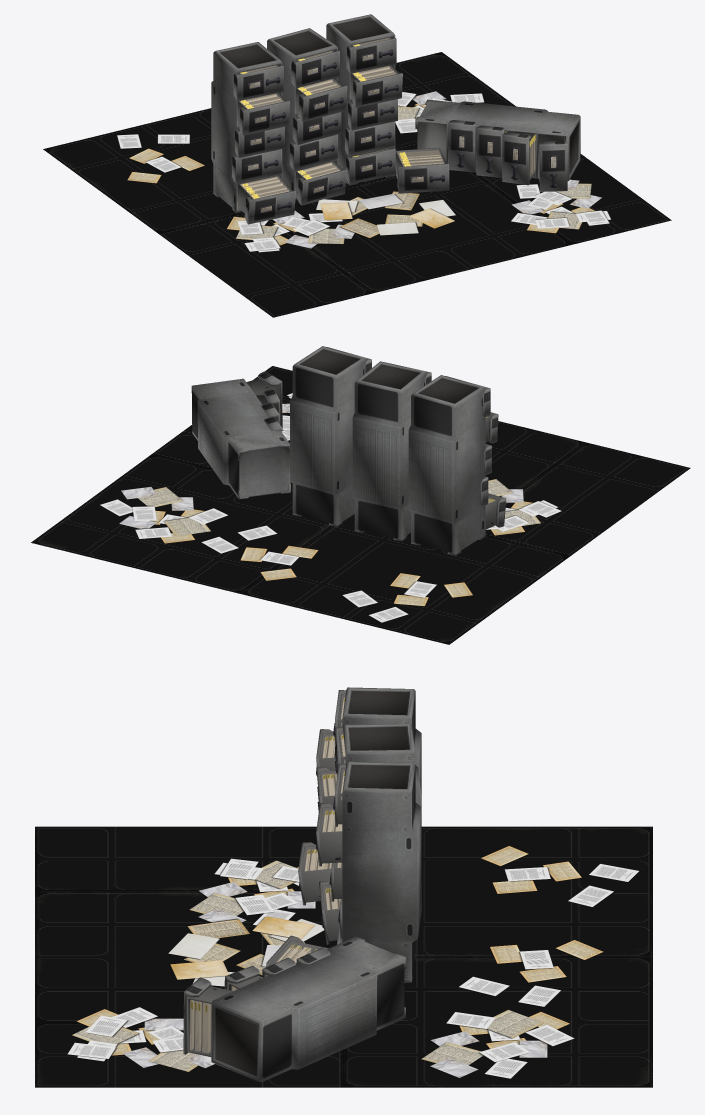
The model's file is filing_cabinets.glb.
3 renders of one model, top to bottom at view 1: azimuth 30°, elevation 25°; view 2: azimuth 150°, elevation 25°; view 3: azimuth 270°, elevation 25°, orthographic. The views are drawn at different scales.
Parts seen in each view (by area): view 1: Plane, bakeObject.065_low.005, bakeObject.065_low.002, Plane.003, Plane.001, Plane.005, bakeObject.065_low.003, bakeObject.065_low.004, bakeObject.008_low.005, bakeObject.008_low.002, Plane.006, bakeObject.005_low.004 (+18 smaller); view 2: Plane, bakeObject.065_low.002, bakeObject.065_low.004, bakeObject.065_low.003, bakeObject.065_low.005, Plane.002, Plane.004, Plane.006, Plane.005, bakeObject.009_low.005, bakeObject.008_low.002; view 3: Plane, bakeObject.065_low.005, bakeObject.065_low.004, Plane.002, Plane.001, Plane.003, Plane.005, Plane.006, Plane.004, bakeObject.065_low.002, bakeObject.065_low.003, bakeObject.009_low.005 (+6 smaller).
Part boxes in pixels (bbox=[...]): Plane: bbox=[43, 52, 671, 317]; bakeObject.065_low.005: bbox=[415, 99, 580, 180]; bakeObject.065_low.002: bbox=[211, 42, 282, 213]; Plane.003: bbox=[316, 191, 456, 238]; Plane.001: bbox=[511, 179, 611, 233]; Plane.005: bbox=[227, 210, 355, 252]; bakeObject.065_low.003: bbox=[267, 28, 337, 200]; bakeObject.065_low.004: bbox=[326, 14, 395, 185]; bakeObject.008_low.005: bbox=[395, 147, 449, 193]; bakeObject.008_low.002: bbox=[238, 176, 295, 224]; Plane.006: bbox=[117, 134, 204, 183]; bakeObject.005_low.004: bbox=[351, 65, 402, 107]; Plane: bbox=[31, 366, 690, 644]; bakeObject.065_low.002: bbox=[408, 375, 485, 555]; bakeObject.065_low.004: bbox=[290, 346, 366, 526]; bakeObject.065_low.003: bbox=[352, 361, 427, 541]; bakeObject.065_low.005: bbox=[191, 378, 290, 499]; Plane.002: bbox=[99, 486, 227, 543]; Plane.004: bbox=[201, 525, 318, 580]; Plane.006: bbox=[341, 573, 472, 622]; Plane.005: bbox=[486, 478, 561, 535]; bakeObject.009_low.005: bbox=[246, 371, 282, 429]; bakeObject.008_low.002: bbox=[485, 493, 506, 529]; Plane: bbox=[35, 826, 652, 1087]; bakeObject.065_low.005: bbox=[211, 936, 406, 1082]; bakeObject.065_low.004: bbox=[342, 761, 421, 982]; Plane.002: bbox=[420, 1010, 574, 1078]; Plane.001: bbox=[67, 1007, 215, 1072]; Plane.003: bbox=[167, 916, 324, 986]; Plane.005: bbox=[188, 858, 315, 925]; Plane.006: bbox=[481, 846, 640, 907]; Plane.004: bbox=[458, 940, 603, 1007]; bakeObject.065_low.002: bbox=[342, 687, 421, 806]; bakeObject.065_low.003: bbox=[343, 723, 421, 806]; bakeObject.009_low.005: bbox=[183, 977, 233, 1056].
Size of the model in its own units: 6.82 by 2.16 by 6.86.
Materials: 6 (6 with a texture image).
